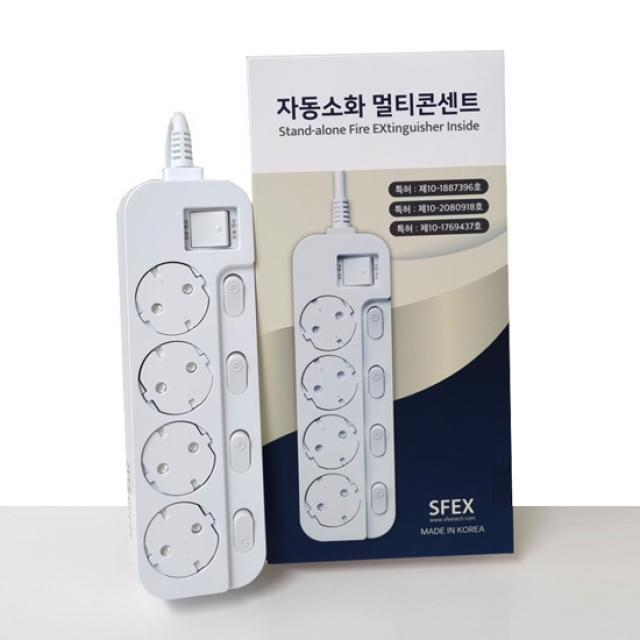typeb: (118, 159, 278, 612)
